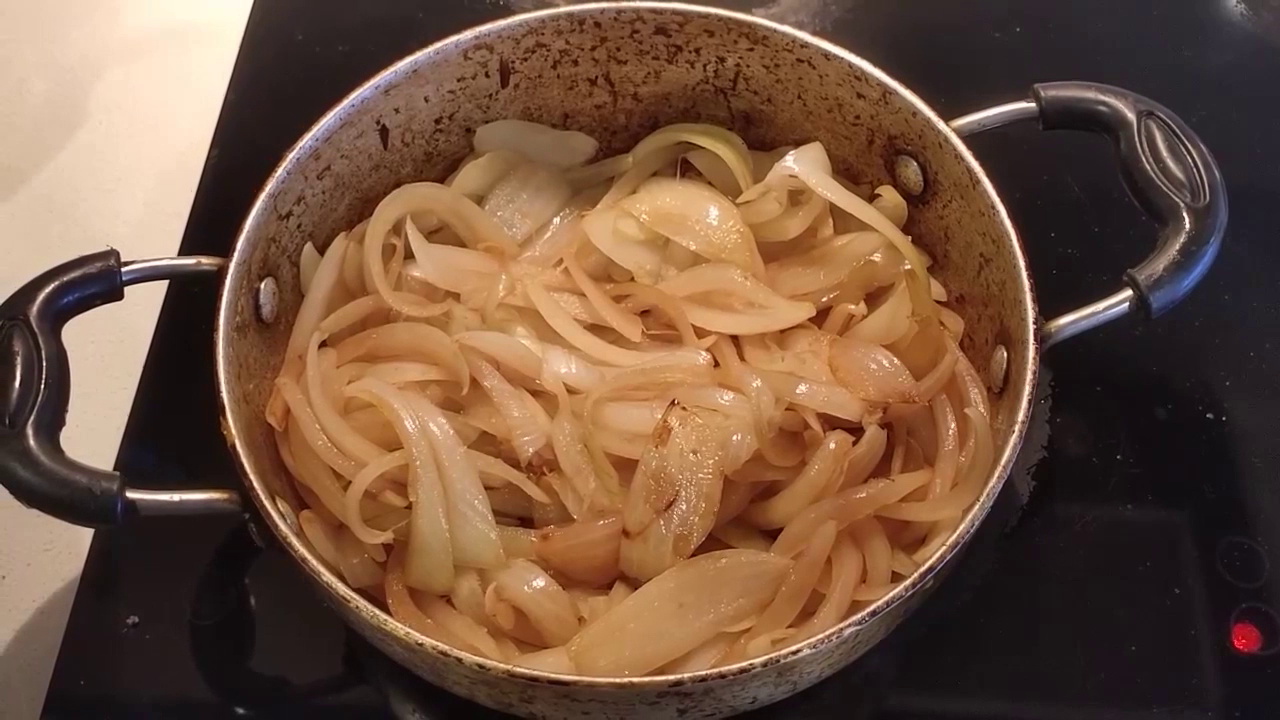Partially cooked: (302, 180, 863, 610)
